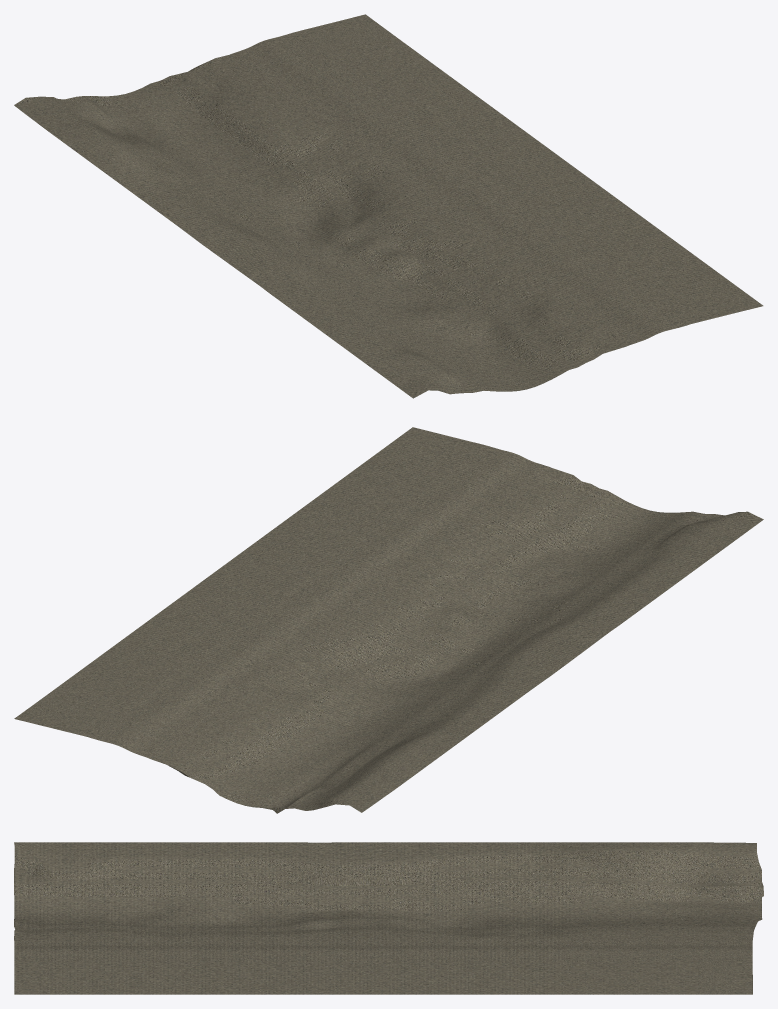
The model's file is ground-elevation-plane-v2.obj.
3 renders of one model, top to bottom at view 1: azimuth 30°, elevation 25°; view 2: azimuth 150°, elevation 25°; view 3: azimuth 270°, elevation 25°, orthographic. The views are drawn at different scales.
Visible parts, largest first — view 1: Ground.1; view 2: Ground.1; view 3: Ground.1.
Boxes of the visible parts, left/top/right/bottom form: Ground.1: left=14, top=14, right=763, bottom=398; Ground.1: left=14, top=427, right=763, bottom=813; Ground.1: left=14, top=842, right=763, bottom=994.
Size of the model in its own units: 4108 by 355 by 8192.
